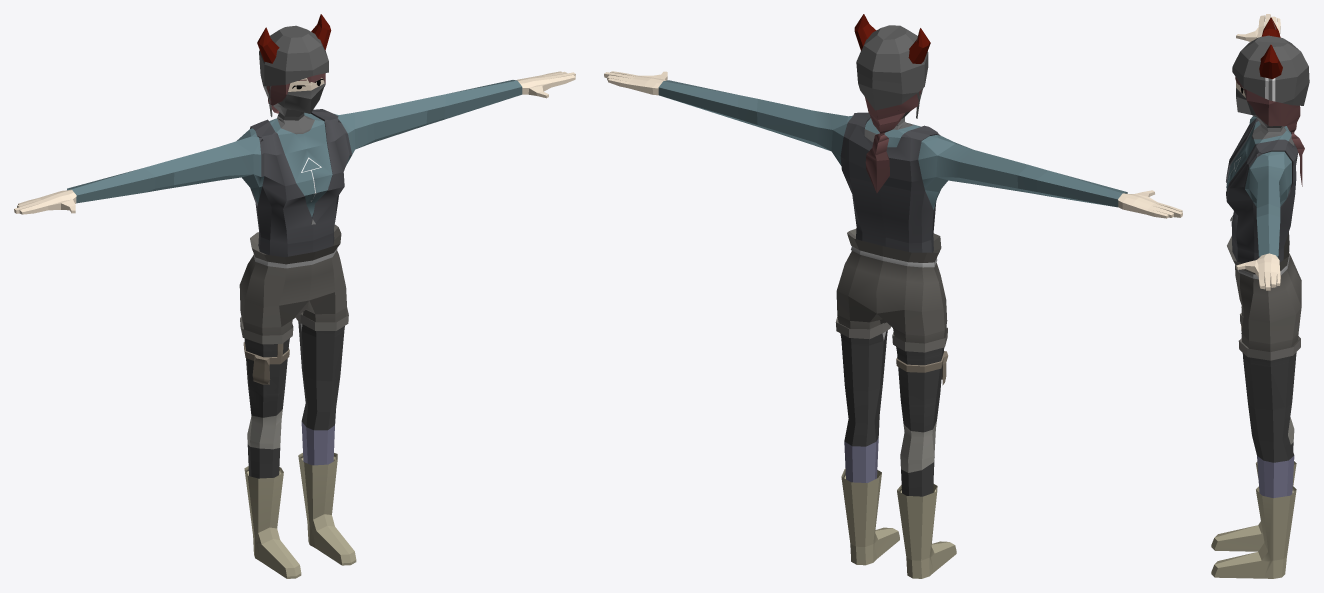
Rendered from NellieSerumModel.fbx.
3 views of the same model, side by side, from view 1: azimuth 30°, elevation 25°; view 2: azimuth 150°, elevation 25°; view 3: azimuth 270°, elevation 25° (orthographic). The views are drawn at different scales.
Parts seen in each view (by area): view 1: Nellie; view 2: Nellie; view 3: Nellie.
Boxes of the visible parts, bbox=[...] form: Nellie: bbox=[14, 14, 575, 578]; Nellie: bbox=[604, 14, 1182, 578]; Nellie: bbox=[1211, 14, 1309, 578].
Bounding box in the file's own units: 193 × 175 × 29.39.
